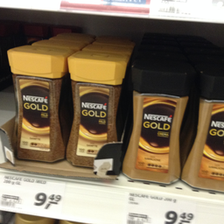coffee: (123, 62, 186, 185), (5, 44, 68, 163), (67, 50, 125, 166), (181, 74, 224, 192)
